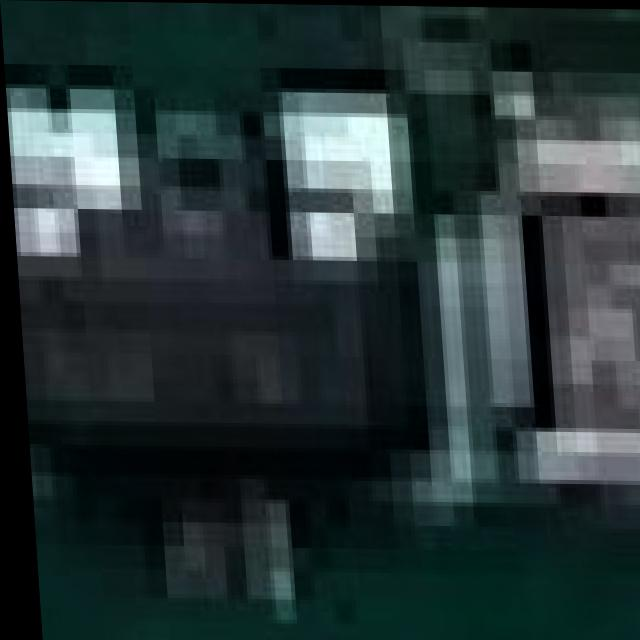resistor: (508, 82, 640, 515)
transistor: (6, 112, 400, 540)
